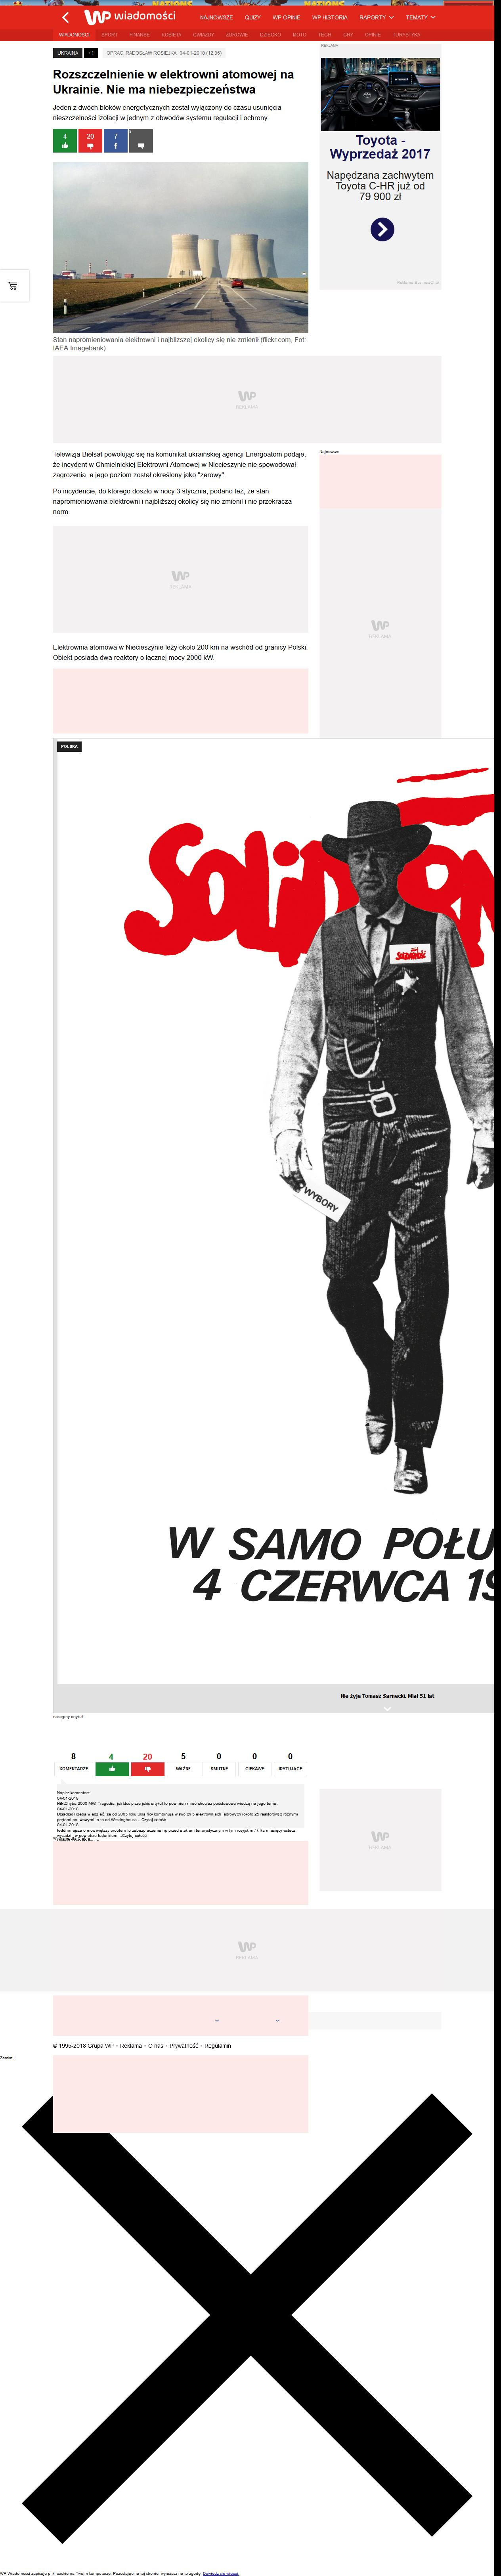title: (53, 69, 294, 95)
